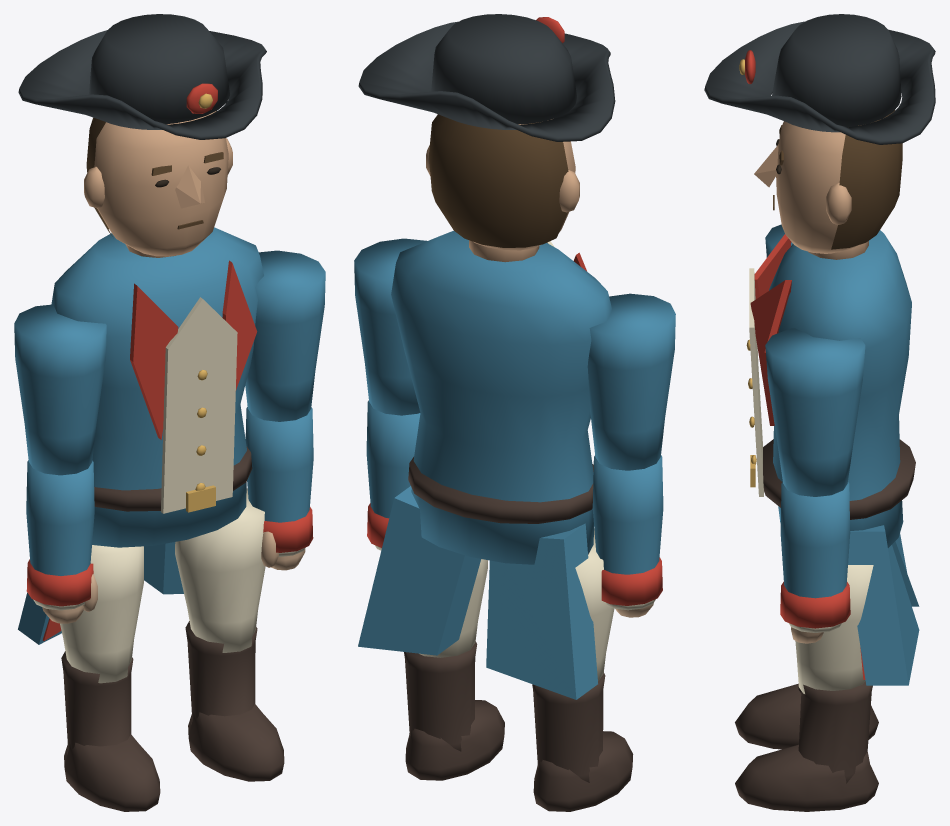
File: FrontierInfantry.fbx
The picture shows the model from 3 angles, left to right: view 1: azimuth 30°, elevation 25°; view 2: azimuth 150°, elevation 25°; view 3: azimuth 270°, elevation 25°; orthographic projection. The views are drawn at different scales.
Parts seen in each view (by area): view 1: Body__Team uniform, Head pivot__Felt, Head pivot__Skin, Body__Warm linen, Right shoulder__Team uniform, Left shoulder__Team uniform, Right leg__Boot leather, Left leg__Boot leather, Left leg__Warm linen, Right leg__Warm linen, Right elbow__Team uniform, Left elbow__Team uniform (+9 smaller); view 2: Body__Team uniform, Head pivot__Felt, Head pivot__Hair, Right shoulder__Team uniform, Left leg__Boot leather, Right leg__Boot leather, Left shoulder__Team uniform, Right elbow__Team uniform, Body__Boot leather, Left elbow__Team uniform, Right leg__Warm linen, Head pivot__Skin (+3 smaller); view 3: Body__Team uniform, Head pivot__Felt, Left shoulder__Team uniform, Left leg__Boot leather, Head pivot__Skin, Left elbow__Team uniform, Head pivot__Hair, Left leg__Warm linen, Right leg__Boot leather, Body__Coat facings, Body__Boot leather, Left elbow__Coat facings (+1 smaller).
Boxes of the visible parts, box(x1,y1,x2,y2) form: Body__Team uniform: box(18, 227, 263, 644); Head pivot__Felt: box(18, 14, 266, 139); Head pivot__Skin: box(84, 111, 232, 257); Body__Warm linen: box(161, 297, 237, 513); Right shoulder__Team uniform: box(14, 304, 106, 475); Left shoulder__Team uniform: box(245, 250, 325, 421); Right leg__Boot leather: box(61, 651, 160, 811); Left leg__Boot leather: box(185, 621, 284, 781); Left leg__Warm linen: box(175, 488, 265, 652); Right leg__Warm linen: box(60, 545, 143, 683); Right elbow__Team uniform: box(26, 460, 94, 575); Left elbow__Team uniform: box(245, 407, 313, 522); Body__Team uniform: box(358, 231, 612, 699); Head pivot__Felt: box(358, 14, 615, 141); Head pivot__Hair: box(429, 114, 568, 247); Right shoulder__Team uniform: box(587, 293, 675, 470); Left leg__Boot leather: box(404, 641, 504, 780); Right leg__Boot leather: box(532, 672, 633, 811); Left shoulder__Team uniform: box(354, 238, 426, 415); Right elbow__Team uniform: box(592, 455, 663, 574); Body__Boot leather: box(408, 457, 593, 523); Left elbow__Team uniform: box(366, 400, 420, 518); Right leg__Warm linen: box(575, 528, 614, 681); Head pivot__Skin: box(426, 119, 579, 262); Body__Team uniform: box(769, 230, 919, 685); Head pivot__Felt: box(704, 14, 935, 144); Left shoulder__Team uniform: box(765, 328, 865, 496); Left leg__Boot leather: box(735, 681, 878, 811); Head pivot__Skin: box(754, 121, 868, 259); Left elbow__Team uniform: box(780, 482, 850, 598); Head pivot__Hair: box(773, 110, 902, 249); Left leg__Warm linen: box(795, 565, 873, 693); Right leg__Boot leather: box(735, 683, 878, 749); Body__Coat facings: box(750, 234, 865, 679); Body__Boot leather: box(763, 439, 915, 519); Left elbow__Coat facings: box(780, 581, 850, 628).
Size of the model in its own units: 81.4 by 190 by 54.53.
